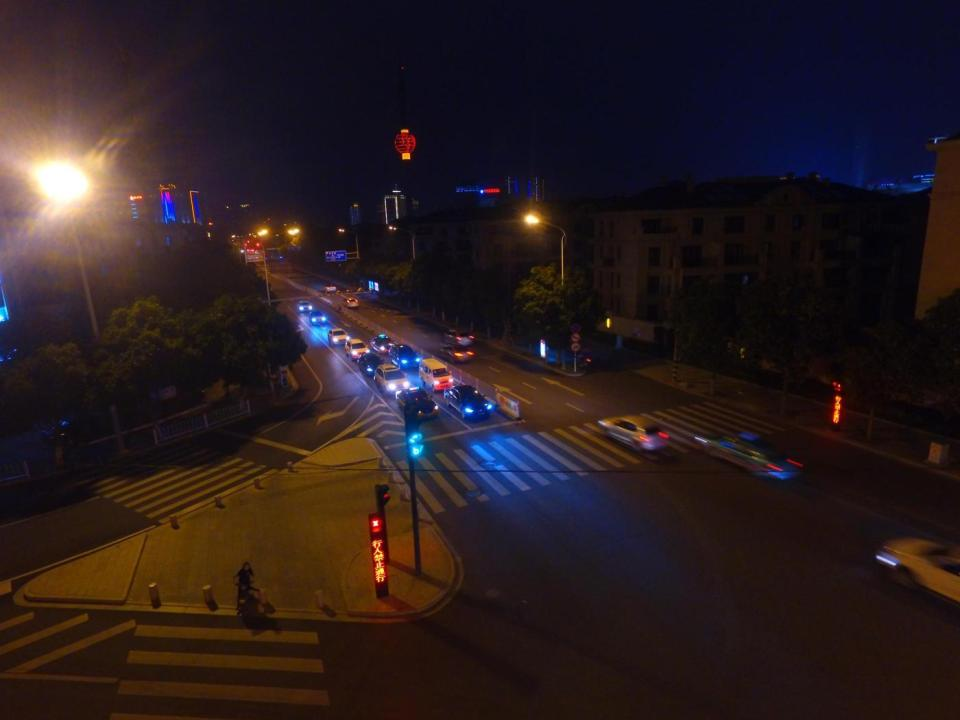car: (873, 533, 960, 612), (700, 434, 800, 481), (599, 413, 669, 458), (444, 386, 494, 421), (396, 388, 439, 423), (387, 343, 421, 372), (375, 366, 412, 392), (439, 344, 472, 366), (360, 352, 384, 376), (444, 327, 474, 346), (344, 338, 367, 360), (371, 335, 396, 355), (328, 328, 350, 346), (342, 297, 360, 311), (309, 311, 327, 325), (298, 302, 314, 314), (324, 283, 337, 293)
van: (416, 358, 453, 391)
